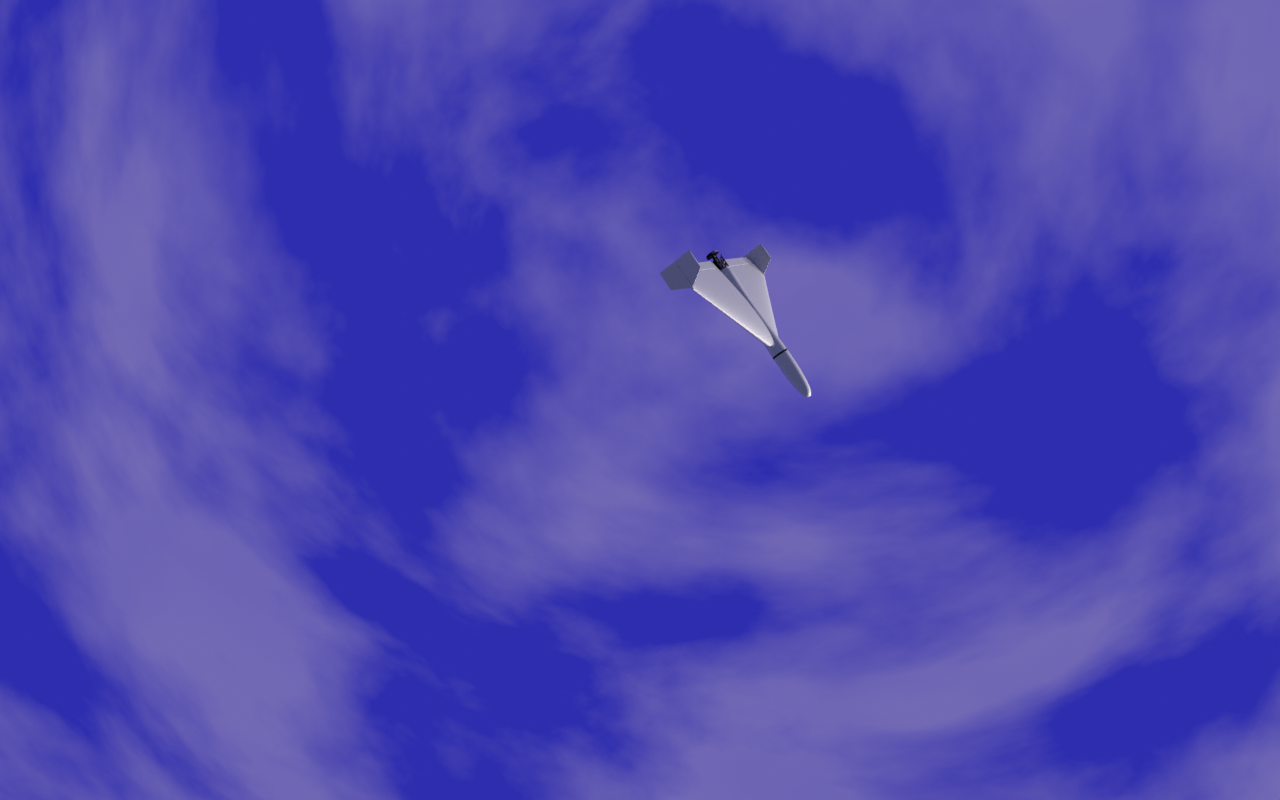shahed: (660, 244, 813, 399)
